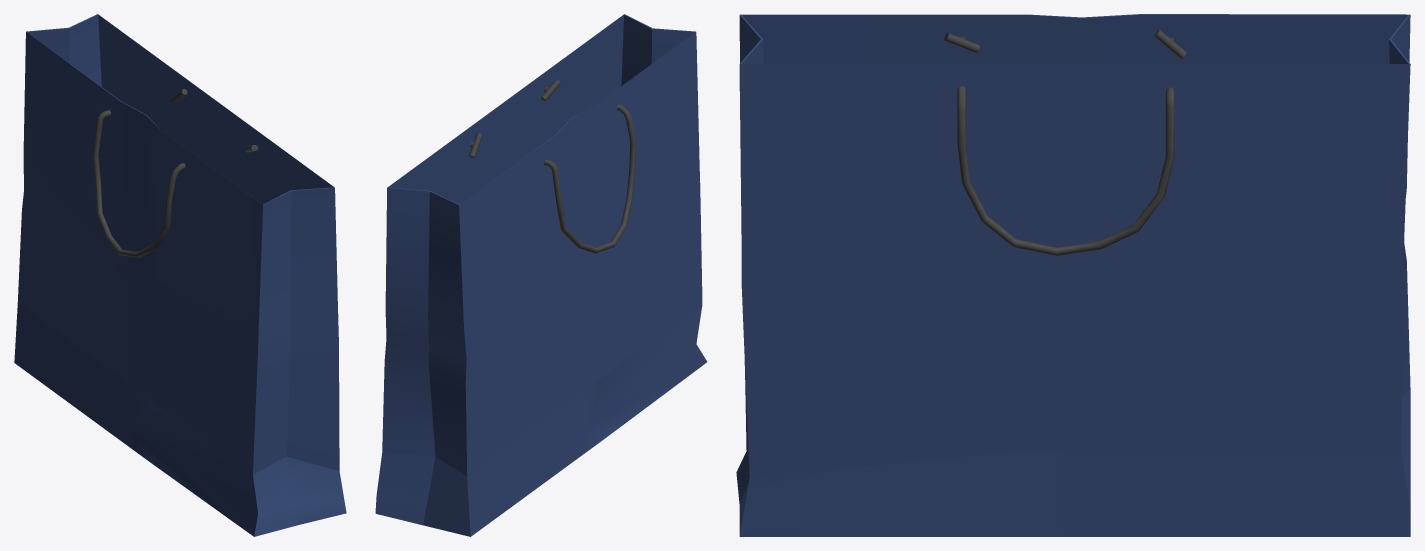
The model's file is HardPaperShoppingBag_V2.fbx.
3 renders of one model, left to right at view 1: azimuth 30°, elevation 25°; view 2: azimuth 150°, elevation 25°; view 3: azimuth 270°, elevation 25°, orthographic. The views are drawn at different scales.
Visible parts, largest first — view 1: HardPaperShoppingBag; view 2: HardPaperShoppingBag; view 3: HardPaperShoppingBag.
Boxes of the visible parts, x1=… form: HardPaperShoppingBag: x1=14, y1=14, x2=346, y2=536; HardPaperShoppingBag: x1=375, y1=14, x2=707, y2=536; HardPaperShoppingBag: x1=736, y1=14, x2=1410, y2=536.
Size of the model in its own units: 13.52 by 33.02 by 43.4.
Materials: 1 (1 with a texture image).
